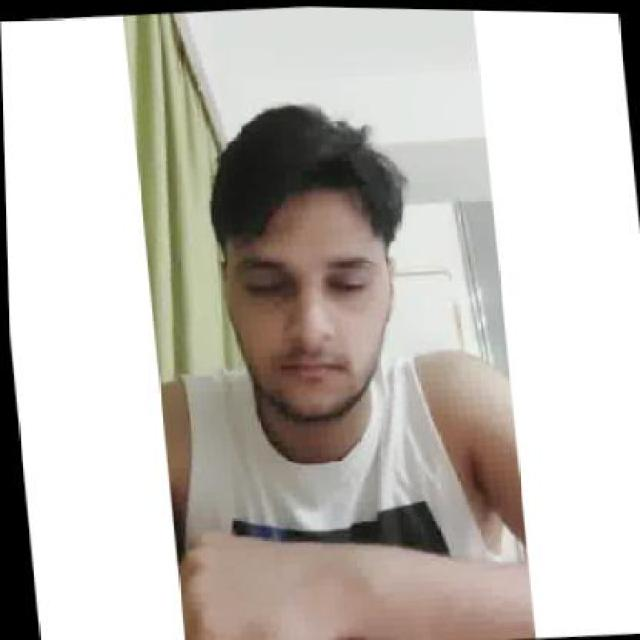inattentif: (198, 92, 408, 430)
